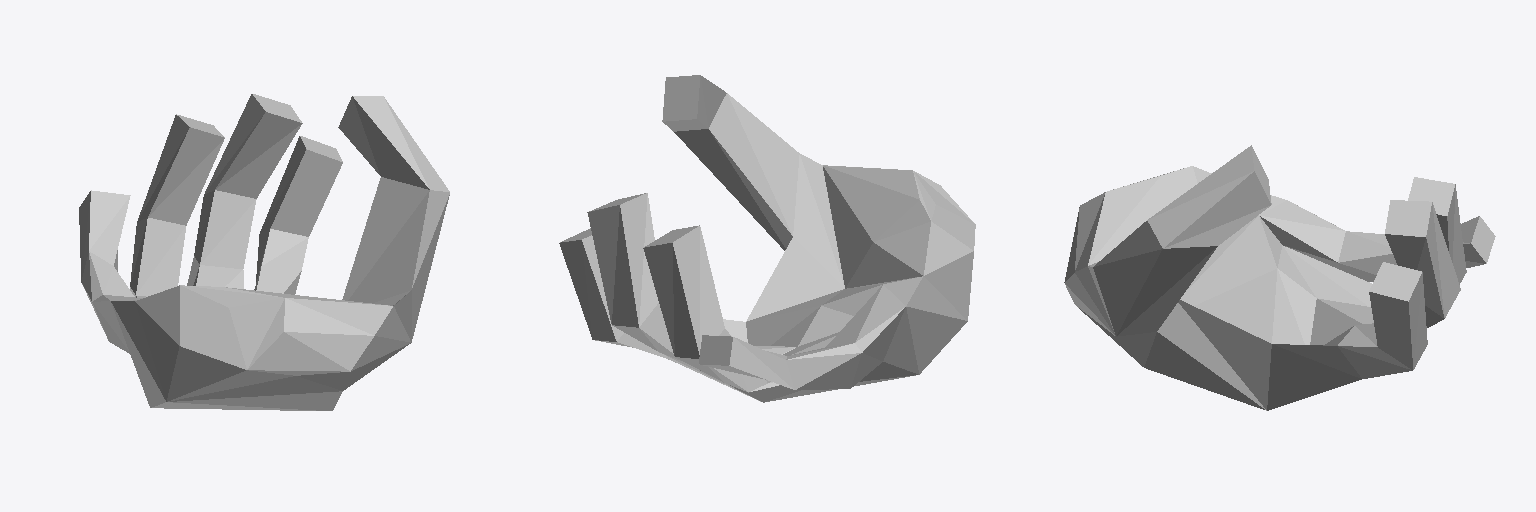
The model's file is OcarinaHand2.obj.
3 views of the same model, side by side, from view 1: azimuth 30°, elevation 25°; view 2: azimuth 150°, elevation 25°; view 3: azimuth 270°, elevation 25° (orthographic).
Visible parts, largest first — view 1: Converted object 0; view 2: Converted object 0; view 3: Converted object 0.
Boxes of the visible parts, x1,y1,x2,y2 form: Converted object 0: [79, 94, 449, 410]; Converted object 0: [559, 75, 975, 402]; Converted object 0: [1064, 145, 1495, 410].
Bounding box in the file's own units: 4.17 × 4.14 × 5.37.